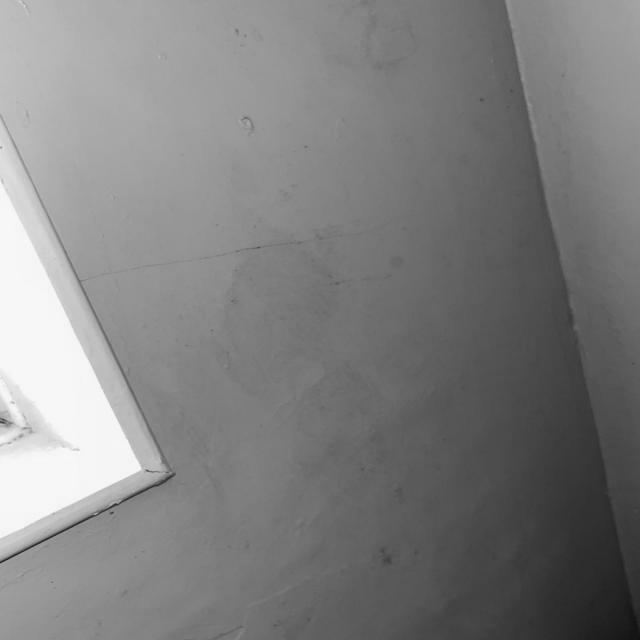stain marks: (188, 224, 640, 640), (8, 390, 185, 640), (449, 7, 632, 218), (219, 139, 365, 222), (340, 0, 443, 92), (219, 4, 274, 72)
